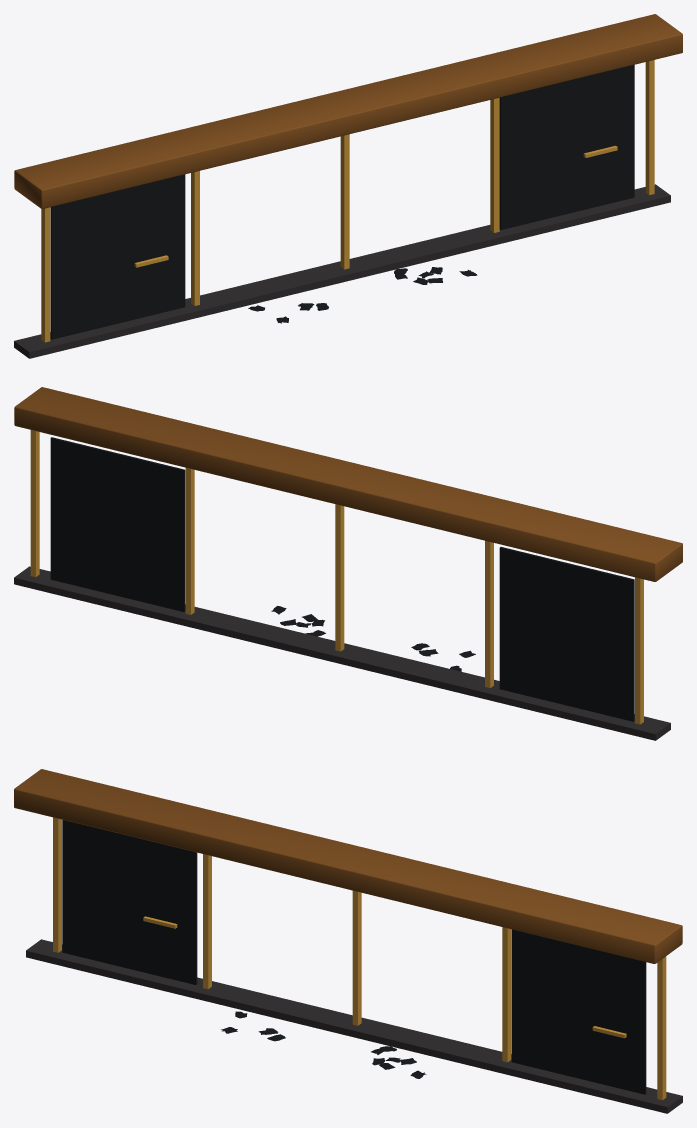
The model's file is casino_glass.glb.
3 views of the same model, one above another, from view 1: azimuth 30°, elevation 25°; view 2: azimuth 150°, elevation 25°; view 3: azimuth 330°, elevation 25° (orthographic).
Visible parts, largest first — view 1: marquee, leaf_0, leaf_3, sill, mullion_0, mullion_2, mullion_end, mullion_3, mullion_1; view 2: marquee, leaf_3, leaf_0, sill, mullion_3, mullion_end, mullion_2, mullion_1, mullion_0; view 3: marquee, leaf_3, leaf_0, sill, mullion_end, mullion_3, mullion_2, mullion_0, mullion_1.
Boxes of the visible parts, x1,y1,x2,y2 form: marquee: (14, 14, 682, 208); leaf_0: (50, 174, 185, 339); leaf_3: (499, 64, 634, 229); sill: (14, 184, 670, 358); mullion_0: (41, 207, 50, 342); mullion_2: (340, 134, 349, 269); mullion_end: (645, 60, 654, 195); mullion_3: (490, 97, 499, 232); mullion_1: (191, 171, 199, 305); marquee: (14, 387, 682, 581); leaf_3: (50, 437, 185, 611); leaf_0: (499, 547, 634, 721); sill: (14, 566, 670, 740); mullion_3: (185, 468, 194, 614); mullion_end: (30, 430, 39, 577); mullion_2: (335, 504, 344, 651); mullion_1: (485, 540, 493, 687); mullion_0: (635, 577, 643, 724); marquee: (14, 769, 682, 963); leaf_3: (511, 929, 646, 1094); leaf_0: (62, 819, 197, 984); sill: (26, 939, 682, 1113); mullion_end: (657, 956, 666, 1100); mullion_3: (502, 927, 511, 1062); mullion_2: (352, 890, 361, 1025); mullion_0: (53, 817, 61, 952); mullion_1: (203, 854, 211, 989).
Bounding box in the file's own units: 12 × 3.17 × 1.45.
